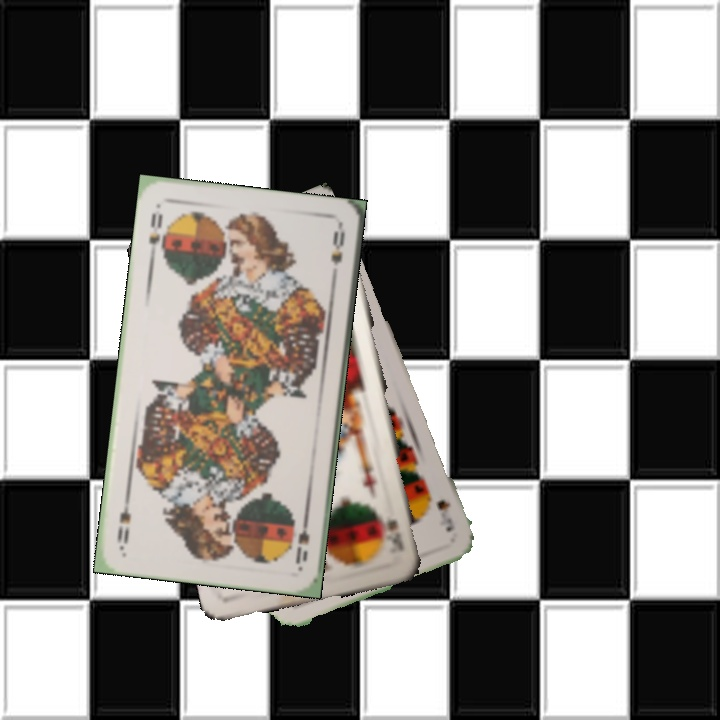S9: (433, 496, 457, 535)
SK: (381, 515, 401, 551)
SO: (292, 510, 312, 570), (145, 209, 165, 260)
